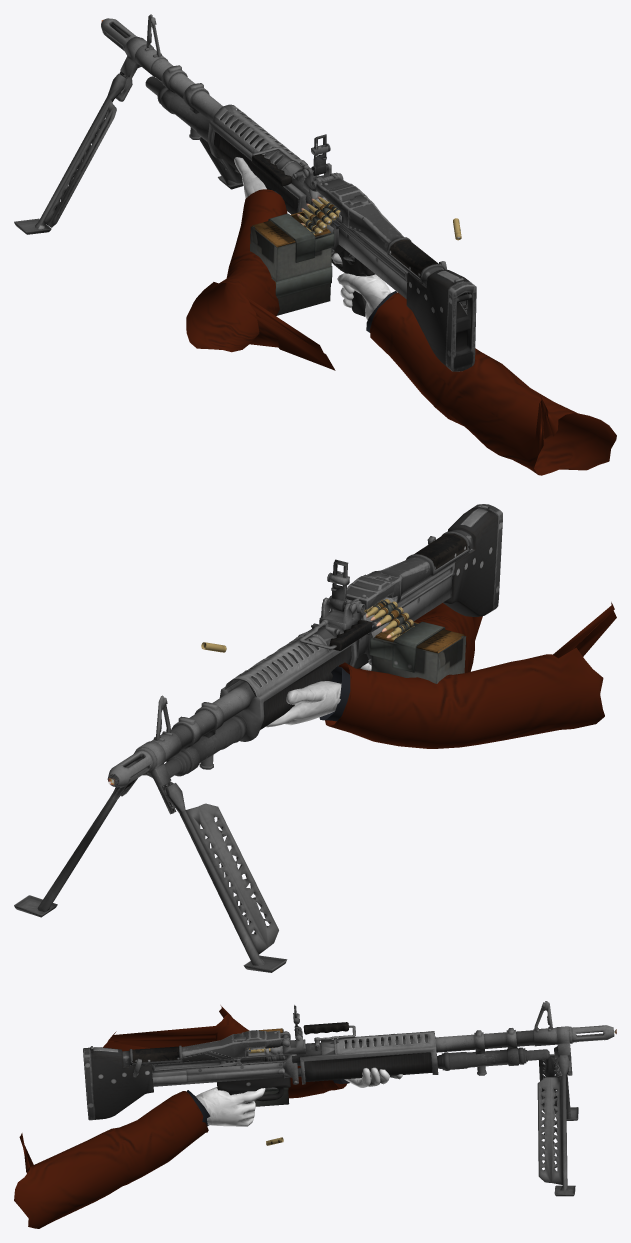
Rendered from frame_28.obj.
3 renders of one model, top to bottom at view 1: azimuth 30°, elevation 25°; view 2: azimuth 150°, elevation 25°; view 3: azimuth 270°, elevation 25°, orthographic. The views are drawn at different scales.
Parts seen in each view (by area): view 1: Mesh.005, PlayerModelMerged.001_PlayerModelMerged, Mesh.001; view 2: Mesh.005, PlayerModelMerged.001_PlayerModelMerged, Mesh.001; view 3: Mesh.005, PlayerModelMerged.001_PlayerModelMerged.
Boxes of the visible parts, bbox=[...] form: Mesh.005: bbox=[14, 14, 476, 371]; PlayerModelMerged.001_PlayerModelMerged: bbox=[186, 157, 616, 475]; Mesh.001: bbox=[297, 196, 340, 234]; Mesh.005: bbox=[14, 504, 502, 972]; PlayerModelMerged.001_PlayerModelMerged: bbox=[266, 602, 616, 748]; Mesh.001: bbox=[366, 599, 414, 638]; Mesh.005: bbox=[83, 1001, 614, 1196]; PlayerModelMerged.001_PlayerModelMerged: bbox=[14, 1005, 402, 1228].
Size of the model in its own units: 0.9933 by 0.745 by 2.16.
